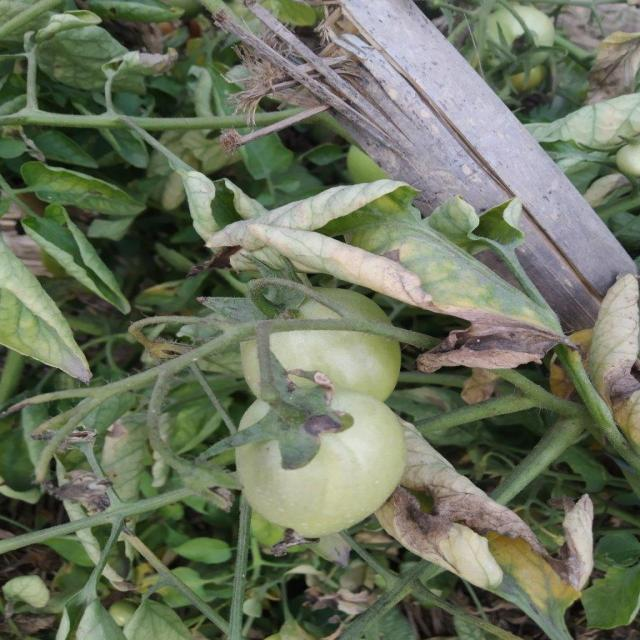Unripe: (237, 384, 409, 538)
